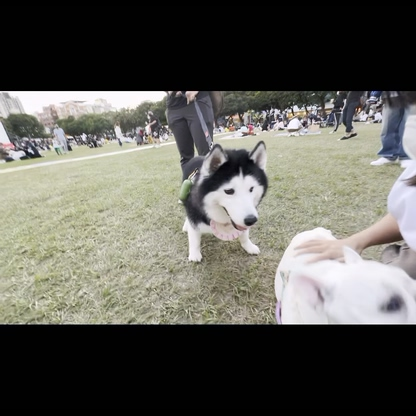husky: (175, 138, 272, 262)
